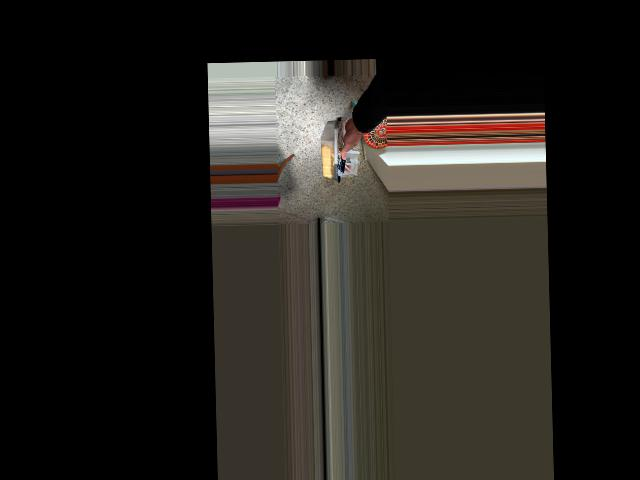cheese: (315, 112, 382, 182)
